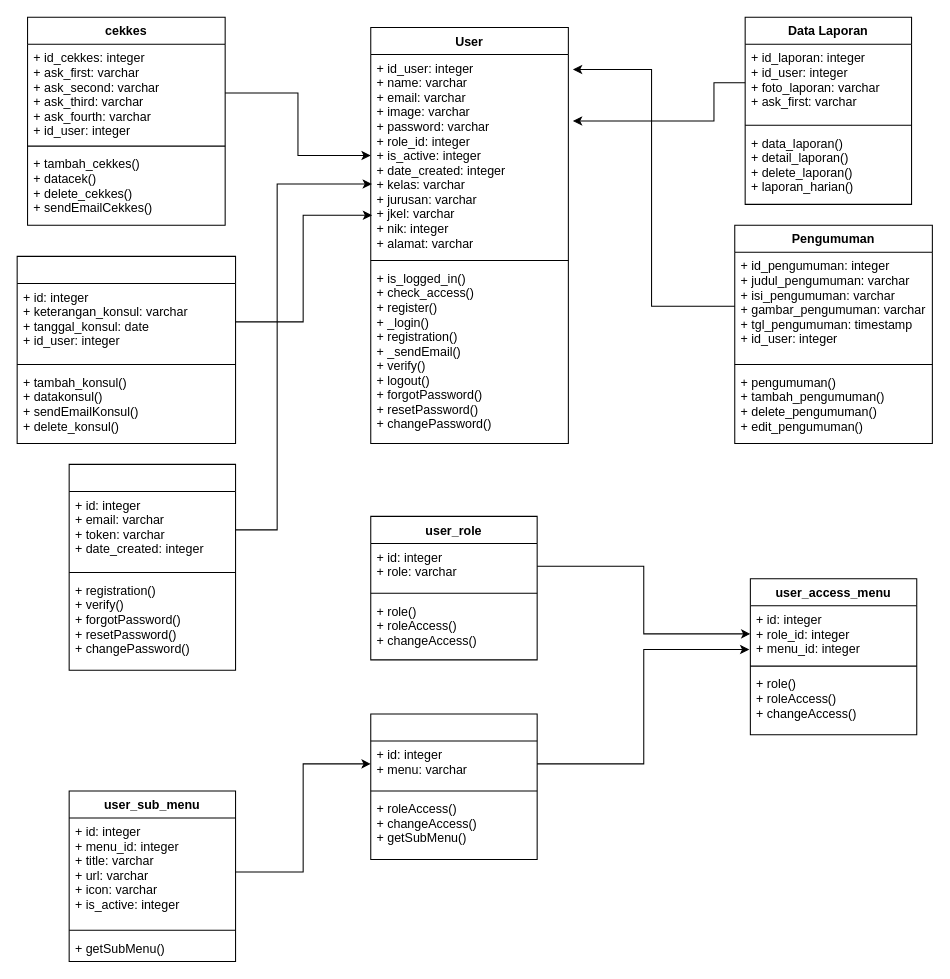
Some shapes in this 950 by 979 pixel diagram are drawn without their labels. The shapes that lost their labels are listed below. From the top down, each one's box as (x1, y1, x2, y2) in pixels, then its label:
(16, 255, 236, 444): Tanya Guru
(68, 463, 236, 670): user_token
(370, 713, 537, 860): user_menu
